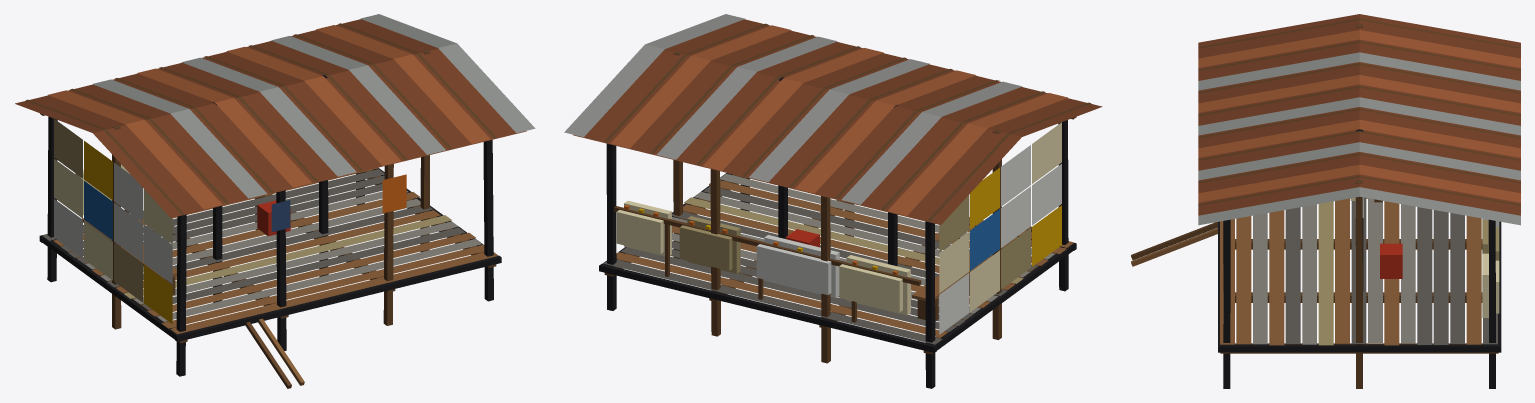
The model's file is building_makoko-net-shed.99b353f98363.glb.
3 views of the same model, side by side, from view 1: azimuth 30°, elevation 25°; view 2: azimuth 150°, elevation 25°; view 3: azimuth 270°, elevation 25° (orthographic). The views are drawn at different scales.
Parts seen in each view (by area): view 1: body; view 2: body; view 3: body.
Boxes of the visible parts, left/top/right/bottom form: body: left=15, top=14, right=535, bottom=388; body: left=564, top=14, right=1102, bottom=388; body: left=1131, top=14, right=1520, bottom=388.
Size of the model in its own units: 6.86 by 3.61 by 6.16.
